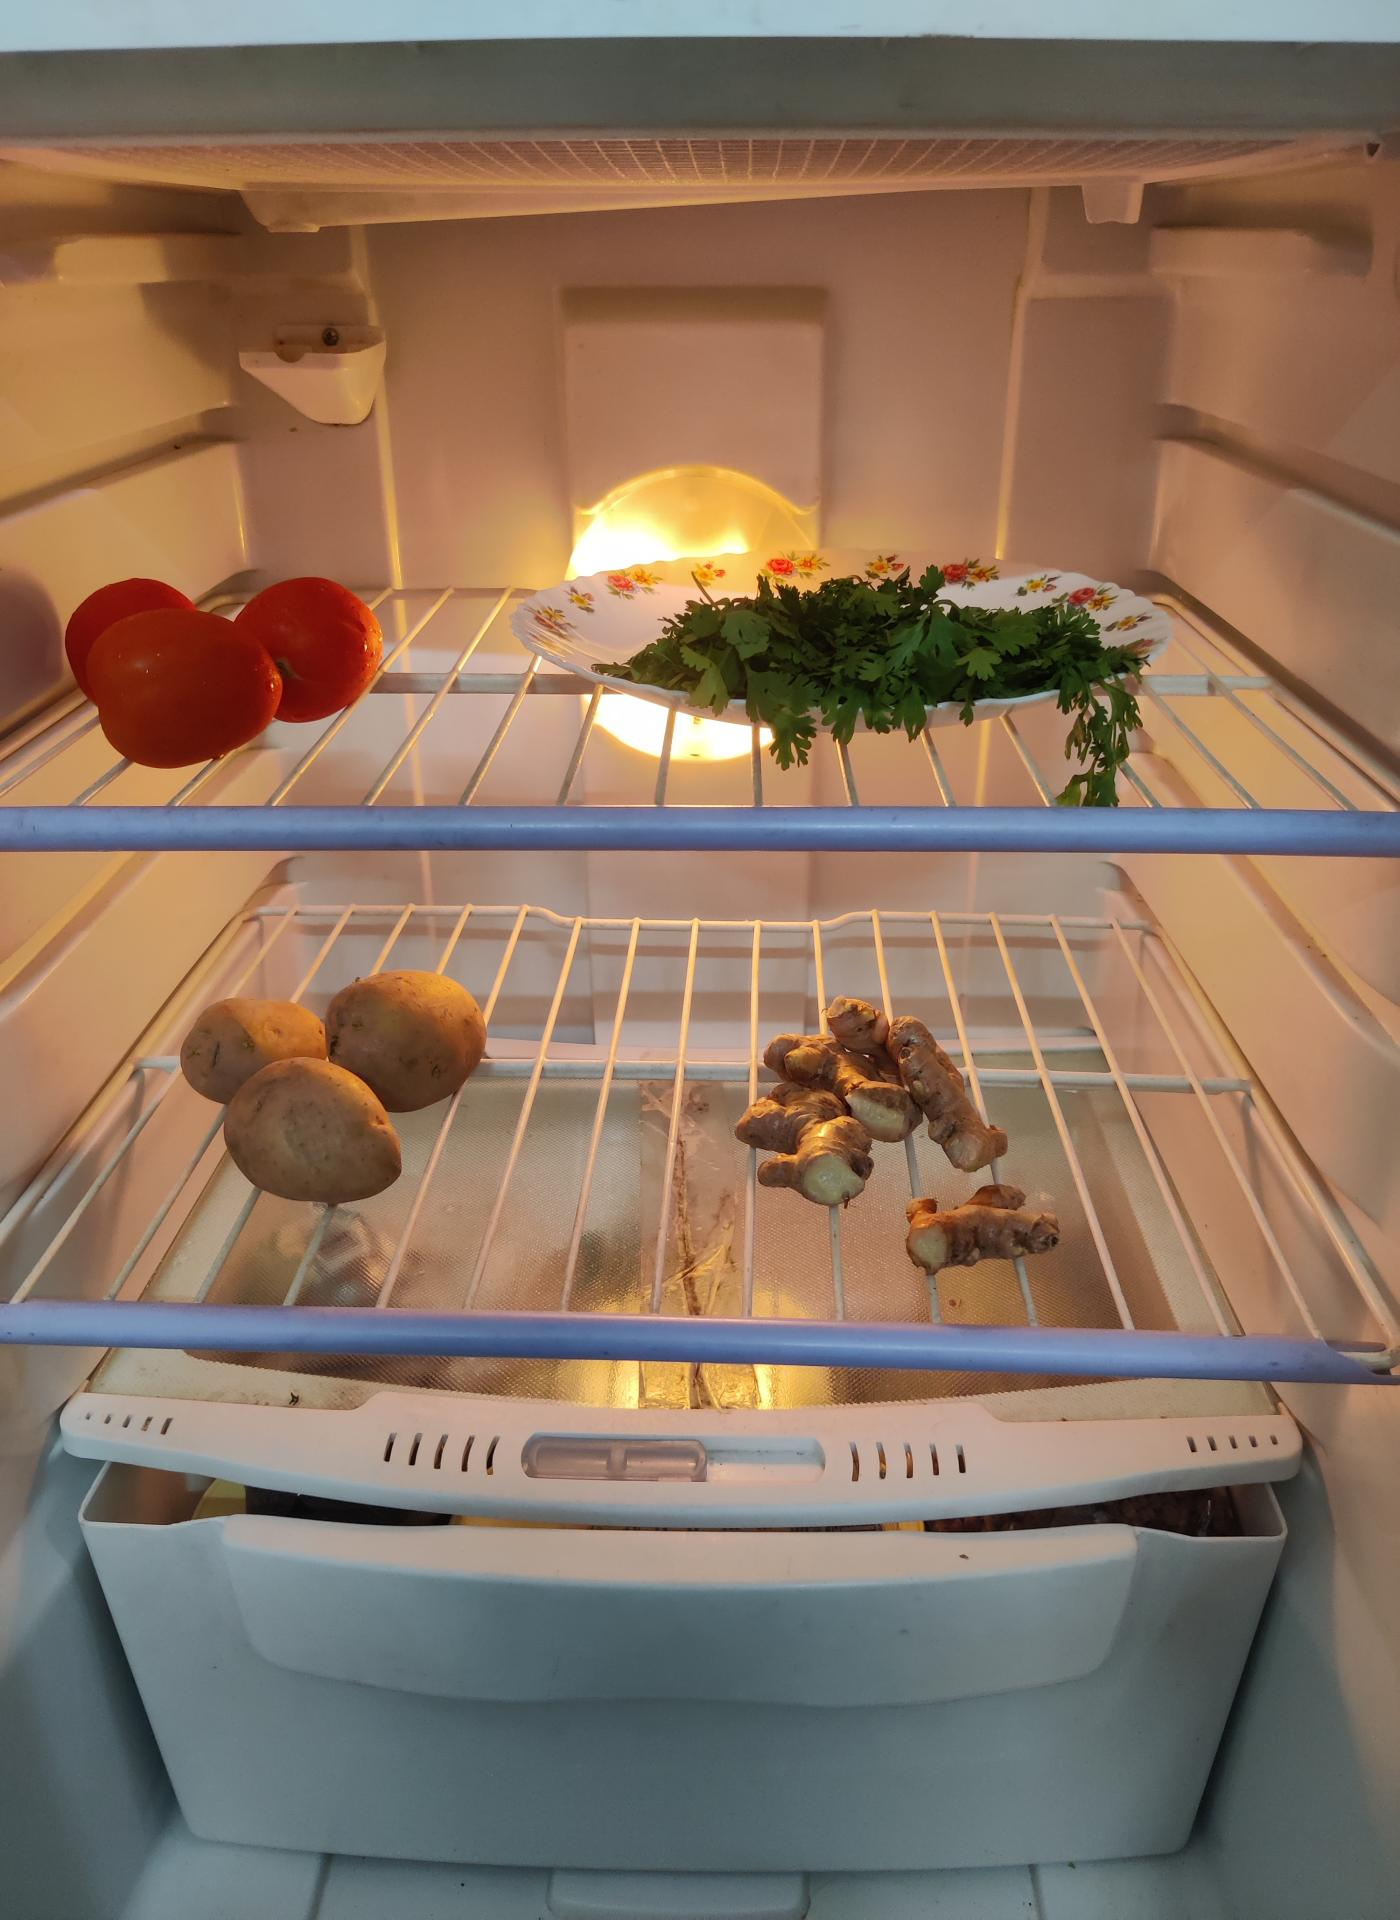coriander: (613, 568, 1142, 733)
ginger: (753, 1015, 1014, 1181), (914, 1185, 1062, 1269)
potato: (183, 966, 491, 1201)
tomato: (67, 574, 382, 765)
